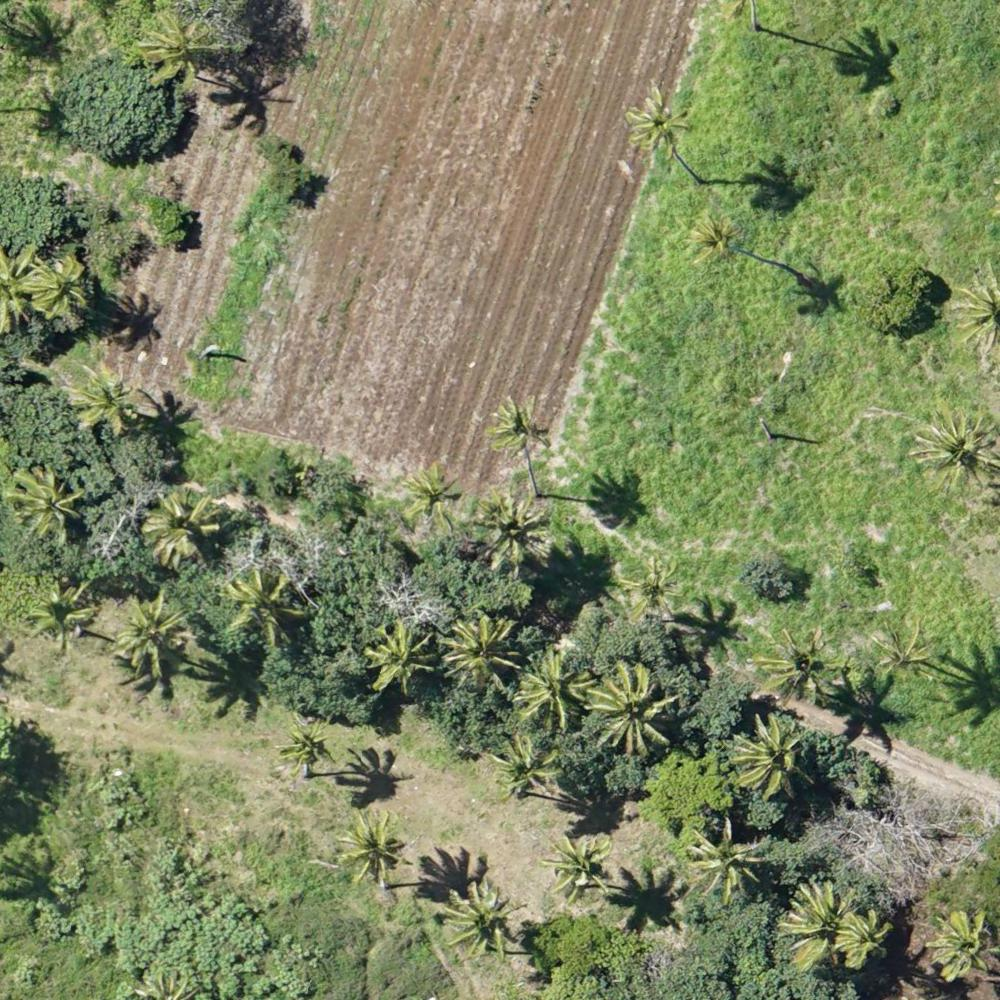Palm: (590, 665, 681, 757), (915, 407, 1000, 500), (734, 714, 818, 806), (114, 597, 192, 688), (140, 11, 222, 93), (223, 569, 307, 645), (443, 613, 523, 691), (784, 877, 851, 966), (518, 655, 596, 731), (687, 823, 767, 895), (336, 811, 413, 884), (753, 626, 828, 700), (447, 879, 518, 957), (142, 492, 216, 566), (8, 466, 78, 539), (545, 831, 618, 901), (370, 621, 438, 690), (928, 911, 992, 984), (68, 368, 138, 433), (620, 556, 687, 623), (30, 583, 102, 645), (487, 395, 554, 461), (25, 255, 88, 321), (625, 88, 688, 154), (873, 617, 941, 677), (401, 462, 462, 523), (273, 718, 329, 776), (834, 909, 887, 965), (688, 214, 740, 269)
